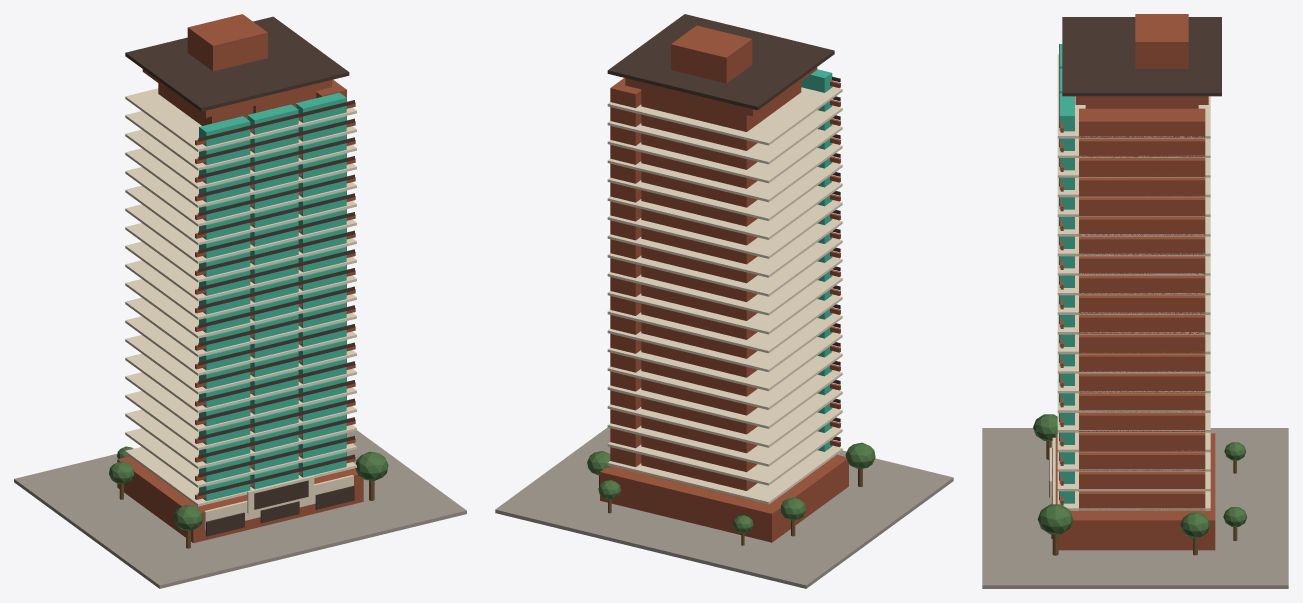
The model's file is jequitiba-building.glb.
3 views of the same model, side by side, from view 1: azimuth 30°, elevation 25°; view 2: azimuth 150°, elevation 25°; view 3: azimuth 270°, elevation 25° (orthographic). The views are drawn at different scales.
Visible parts, largest first — view 1: JEQUITIBA_GROUND, JEQUITIBA_ROOF_CAP, JEQUITIBA_PODIUM, JEQUITIBA_ROOF_SCREEN, JEQUITIBA_SLAB_20, JEQUITIBA_SLAB_14, JEQUITIBA_SLAB_11, JEQUITIBA_SLAB_3, JEQUITIBA_SLAB_18, JEQUITIBA_SLAB_19, JEQUITIBA_SLAB_8, JEQUITIBA_SLAB_15 (+101 smaller); view 2: JEQUITIBA_CORE, JEQUITIBA_GROUND, JEQUITIBA_ROOF_CAP, JEQUITIBA_PODIUM, JEQUITIBA_ROOF_SCREEN, JEQUITIBA_SLAB_20, JEQUITIBA_SLAB_6, JEQUITIBA_SLAB_18, JEQUITIBA_SLAB_9, JEQUITIBA_SLAB_11, JEQUITIBA_SLAB_16, JEQUITIBA_SLAB_2 (+16 smaller); view 3: JEQUITIBA_GROUND, JEQUITIBA_ROOF_CAP, JEQUITIBA_PODIUM, JEQUITIBA_SIDE_20, JEQUITIBA_ROOF_SCREEN, JEQUITIBA_SIDE_16, JEQUITIBA_SIDE_17, JEQUITIBA_SIDE_4, JEQUITIBA_SIDE_9, JEQUITIBA_SIDE_12, JEQUITIBA_SIDE_7, JEQUITIBA_SIDE_1 (+38 smaller).
Part boxes in pixels (x1,y1,x2,y2): JEQUITIBA_GROUND: (14, 430, 466, 588); JEQUITIBA_ROOF_CAP: (125, 16, 349, 111); JEQUITIBA_PODIUM: (117, 456, 363, 543); JEQUITIBA_ROOF_SCREEN: (187, 14, 267, 71); JEQUITIBA_SLAB_20: (125, 88, 356, 151); JEQUITIBA_SLAB_14: (125, 204, 356, 263); JEQUITIBA_SLAB_11: (125, 260, 356, 319); JEQUITIBA_SLAB_3: (125, 409, 356, 469); JEQUITIBA_SLAB_18: (125, 129, 356, 189); JEQUITIBA_SLAB_19: (125, 111, 356, 170); JEQUITIBA_SLAB_8: (125, 316, 356, 375); JEQUITIBA_SLAB_15: (125, 185, 356, 245); JEQUITIBA_CORE: (641, 82, 801, 497); JEQUITIBA_GROUND: (495, 427, 953, 588); JEQUITIBA_ROOF_CAP: (607, 14, 834, 110); JEQUITIBA_PODIUM: (600, 455, 848, 542); JEQUITIBA_ROOF_SCREEN: (671, 25, 752, 83); JEQUITIBA_SLAB_20: (607, 86, 842, 145); JEQUITIBA_SLAB_6: (607, 351, 842, 409); JEQUITIBA_SLAB_18: (607, 124, 842, 183); JEQUITIBA_SLAB_9: (607, 294, 842, 353); JEQUITIBA_SLAB_11: (607, 257, 842, 315); JEQUITIBA_SLAB_16: (607, 162, 842, 220); JEQUITIBA_SLAB_2: (607, 427, 842, 485); JEQUITIBA_GROUND: (982, 428, 1288, 588); JEQUITIBA_ROOF_CAP: (1062, 17, 1221, 96); JEQUITIBA_PODIUM: (1055, 433, 1215, 550); JEQUITIBA_SIDE_20: (1079, 108, 1205, 137); JEQUITIBA_ROOF_SCREEN: (1135, 14, 1188, 68); JEQUITIBA_SIDE_16: (1079, 197, 1205, 216); JEQUITIBA_SIDE_17: (1079, 177, 1205, 196); JEQUITIBA_SIDE_4: (1079, 432, 1205, 451); JEQUITIBA_SIDE_9: (1079, 334, 1205, 353); JEQUITIBA_SIDE_12: (1079, 275, 1205, 294); JEQUITIBA_SIDE_7: (1079, 373, 1205, 392); JEQUITIBA_SIDE_1: (1079, 491, 1205, 510).
Size of the model in its own units: 56 by 80.02 by 46.
